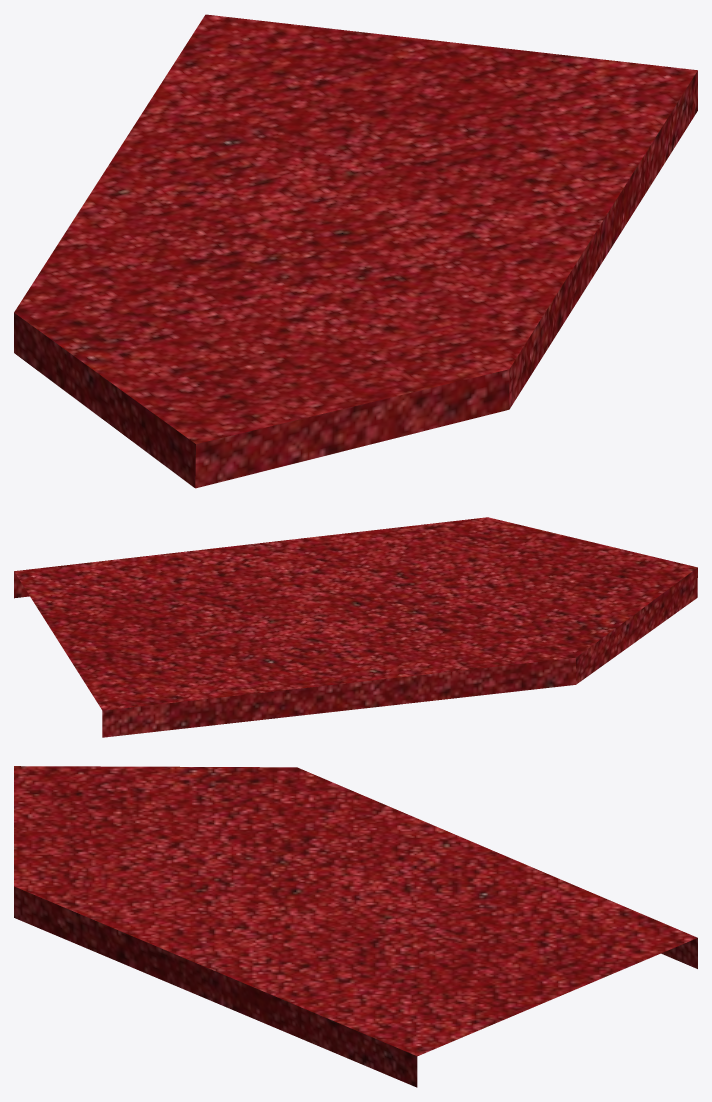
Rendered from RedCarpetImport.fbx.
3 renders of one model, top to bottom at view 1: azimuth 30°, elevation 25°; view 2: azimuth 150°, elevation 25°; view 3: azimuth 270°, elevation 25°, orthographic. The views are drawn at different scales.
Visible parts, largest first — view 1: Object; view 2: Object; view 3: Object.
Part boxes in pixels (left/top/right/bottom): Object: left=14, top=14, right=697, bottom=488; Object: left=14, top=517, right=697, bottom=737; Object: left=14, top=766, right=697, bottom=1087.
Size of the model in its own units: 16.95 by 0.9534 by 16.95.
1 material, 1 textured.
